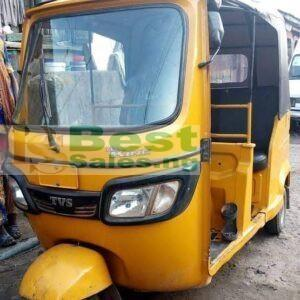keke: (3, 2, 294, 298)
